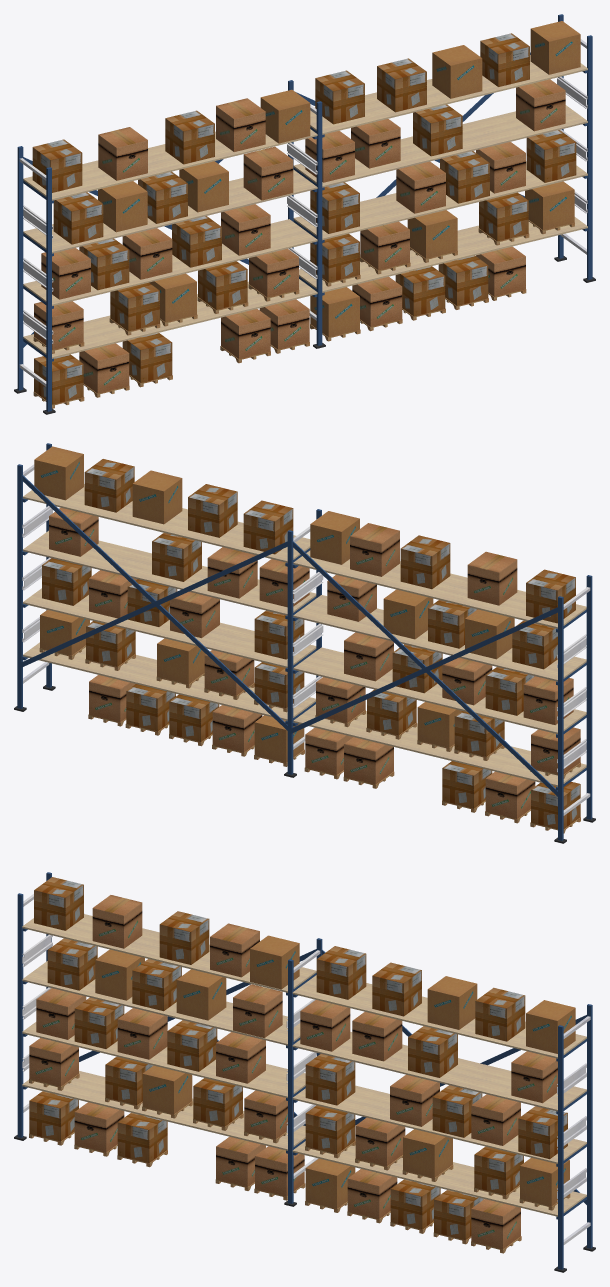
The model's file is BigShelves02Group2.glb.
3 views of the same model, one above another, from view 1: azimuth 30°, elevation 25°; view 2: azimuth 150°, elevation 25°; view 3: azimuth 330°, elevation 25° (orthographic).
Visible parts, largest first — view 1: Cardboard_box08, Cardboard_box07, BigShelves02, BigShelvesWoodBox; view 2: Cardboard_box08, BigShelves02, Cardboard_box07, BigShelvesWoodBox; view 3: Cardboard_box08, Cardboard_box07, BigShelves02, BigShelvesWoodBox.
Part boxes in pixels (bbox=[...]): Cardboard_box08: bbox=[34, 21, 580, 393]; Cardboard_box07: bbox=[32, 33, 576, 404]; BigShelves02: bbox=[14, 14, 595, 414]; BigShelvesWoodBox: bbox=[33, 220, 574, 408]; Cardboard_box08: bbox=[34, 446, 580, 818]; BigShelves02: bbox=[14, 443, 595, 843]; Cardboard_box07: bbox=[42, 459, 580, 828]; BigShelvesWoodBox: bbox=[39, 645, 580, 833]; Cardboard_box08: bbox=[29, 895, 575, 1249]; Cardboard_box07: bbox=[29, 877, 567, 1240]; BigShelves02: bbox=[14, 872, 595, 1272]; BigShelvesWoodBox: bbox=[29, 1073, 570, 1253].
Bounding box in the file's own units: 17.75 × 7.59 × 1.81.
8 materials, 8 textured.
